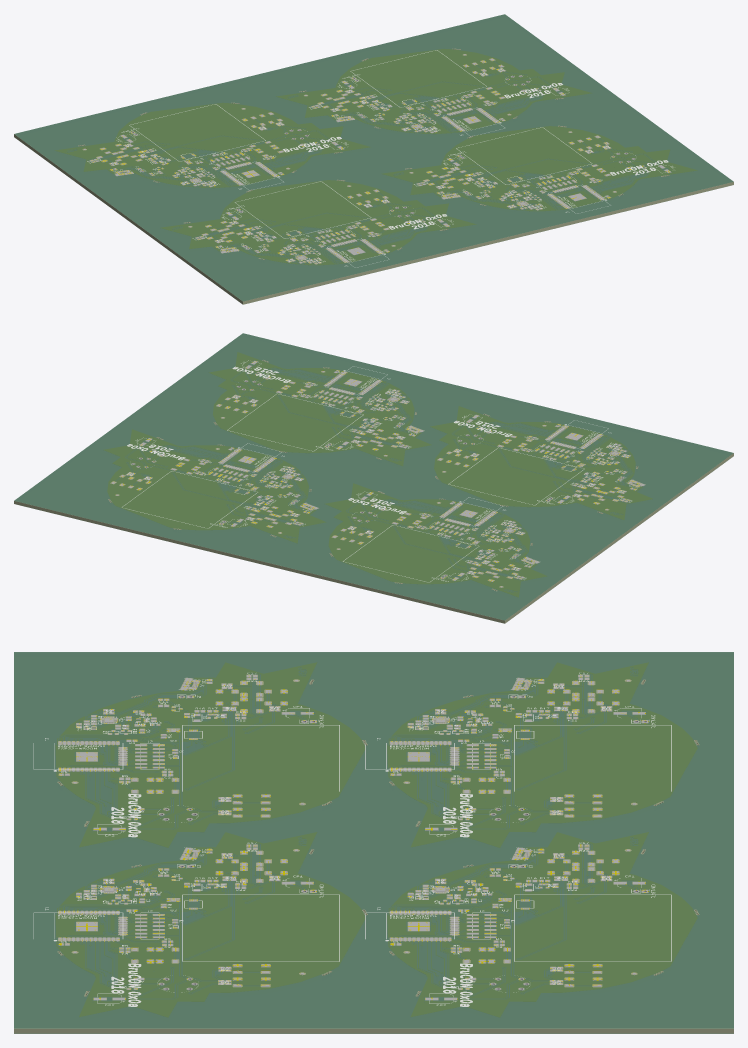
The model's file is brucon-0x0a-badge.glb.
3 views of the same model, one above another, from view 1: azimuth 30°, elevation 25°; view 2: azimuth 150°, elevation 25°; view 3: azimuth 270°, elevation 25° (orthographic). The views are drawn at different scales.
Parts seen in each view (by area): view 1: =>[0:1:1:7], =>[0:1:1:9], =>[0:1:1:2], =>[0:1:1:5]; view 2: =>[0:1:1:7], =>[0:1:1:9], =>[0:1:1:2], =>[0:1:1:5]; view 3: =>[0:1:1:7], =>[0:1:1:9], =>[0:1:1:2], =>[0:1:1:5].
Boxes of the visible parts, x1,y1,x2,y2 form: =>[0:1:1:7]: (14, 14, 733, 303); =>[0:1:1:9]: (14, 15, 733, 304); =>[0:1:1:2]: (57, 49, 695, 264); =>[0:1:1:5]: (87, 50, 673, 267); =>[0:1:1:7]: (14, 333, 733, 622); =>[0:1:1:9]: (14, 334, 733, 623); =>[0:1:1:2]: (105, 353, 651, 596); =>[0:1:1:5]: (122, 360, 641, 582); =>[0:1:1:7]: (14, 652, 733, 1033); =>[0:1:1:9]: (14, 653, 733, 1033); =>[0:1:1:2]: (56, 663, 696, 1016); =>[0:1:1:5]: (33, 672, 671, 1006).
Bounding box in the file's own units: 0.2552 × 0.00166 × 0.2062.
Materials: 4 (4 with a texture image).
